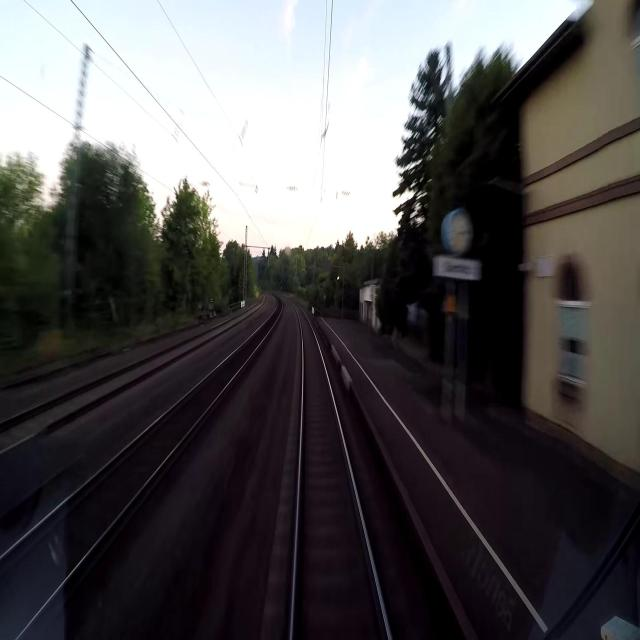rail-track: (0, 299, 281, 639), (0, 296, 265, 448), (294, 305, 389, 639)
